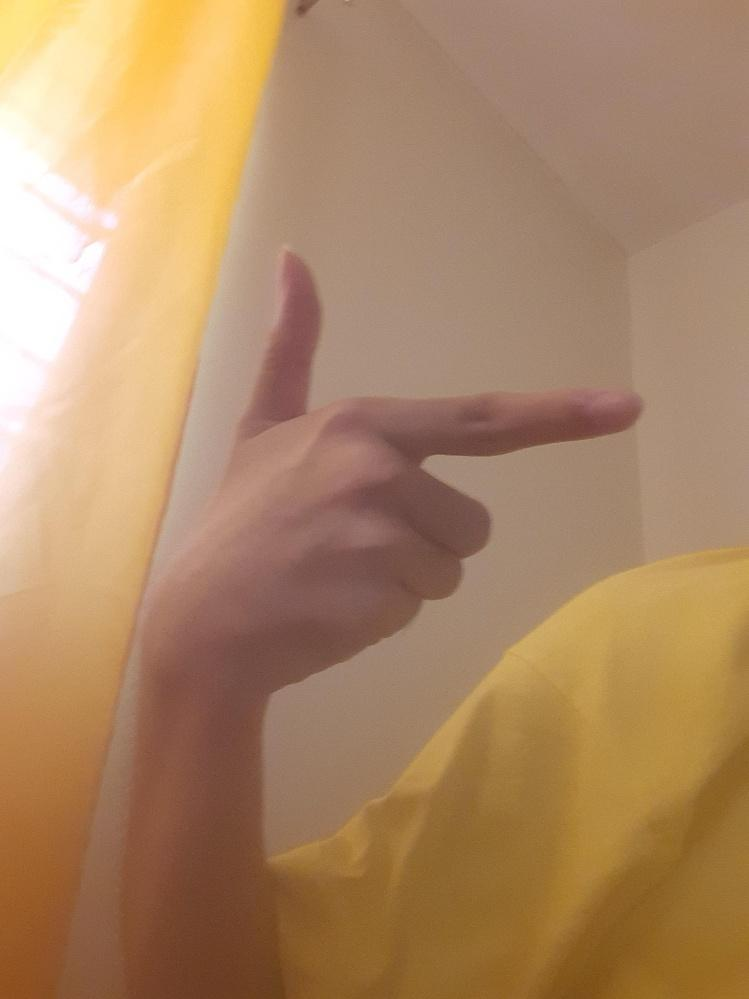g: (172, 249, 644, 694)
